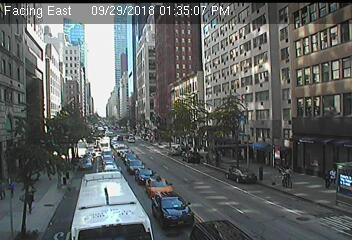car: (69, 172, 154, 240), (152, 192, 196, 229), (188, 220, 250, 240), (145, 177, 173, 198), (225, 167, 256, 184), (134, 168, 156, 185), (126, 158, 145, 175), (101, 165, 120, 179), (182, 151, 200, 163), (124, 153, 138, 164), (79, 159, 92, 170), (102, 156, 114, 165), (83, 153, 94, 162), (168, 148, 180, 155)
